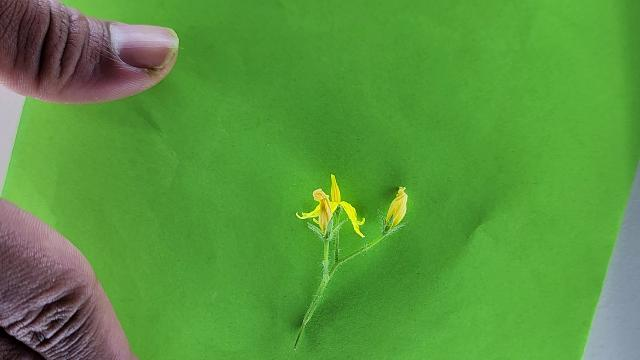Anthesis: (296, 173, 366, 238), (383, 185, 409, 233)
